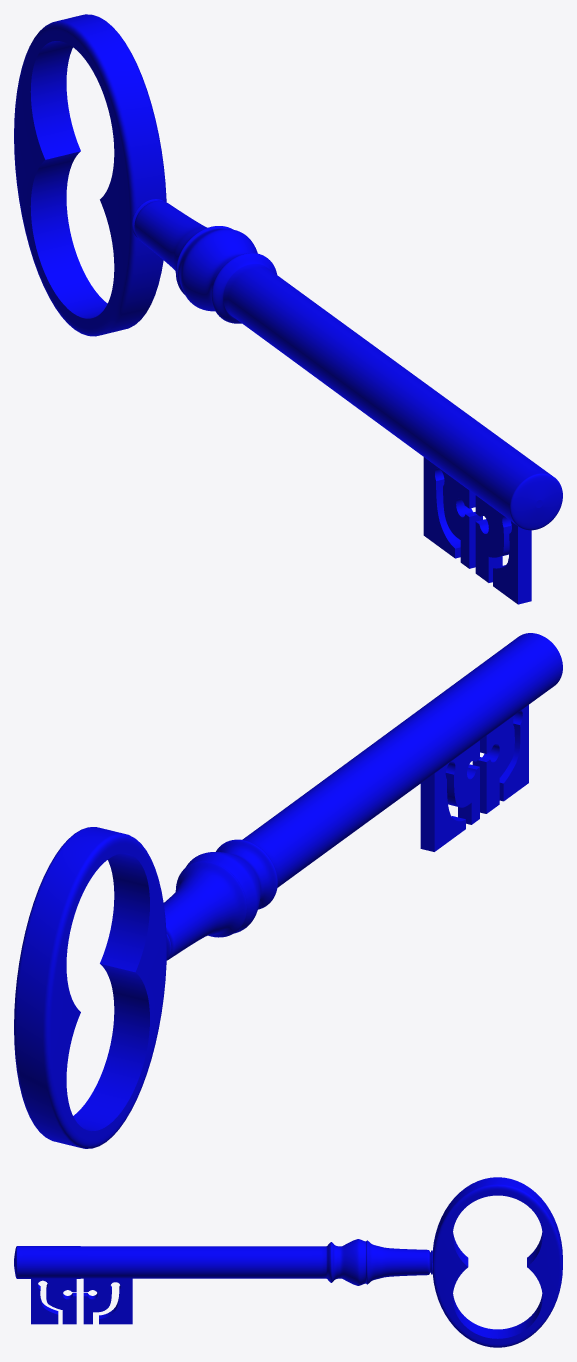
File: blueKey.gltf
The picture shows the model from 3 angles, top to bottom: view 1: azimuth 30°, elevation 25°; view 2: azimuth 150°, elevation 25°; view 3: azimuth 270°, elevation 25°; orthographic projection. The views are drawn at different scales.
Visible parts, largest first — view 1: Line001_Material #30_0, Cylinder004_Material #30_0, Box007_Material #30_0; view 2: Cylinder004_Material #30_0, Line001_Material #30_0, Box007_Material #30_0; view 3: Line001_Material #30_0, Cylinder004_Material #30_0, Box007_Material #30_0.
Part boxes in pixels (bbox=[...]): Line001_Material #30_0: bbox=[132, 199, 562, 530]; Cylinder004_Material #30_0: bbox=[14, 14, 166, 336]; Box007_Material #30_0: bbox=[423, 457, 531, 604]; Cylinder004_Material #30_0: bbox=[14, 827, 166, 1148]; Line001_Material #30_0: bbox=[163, 633, 562, 960]; Box007_Material #30_0: bbox=[420, 705, 528, 851]; Line001_Material #30_0: bbox=[14, 1239, 432, 1285]; Cylinder004_Material #30_0: bbox=[432, 1177, 562, 1347]; Box007_Material #30_0: bbox=[31, 1278, 132, 1324].
Bounding box in the file's own units: 5.49 × 21.07 × 64.24.
